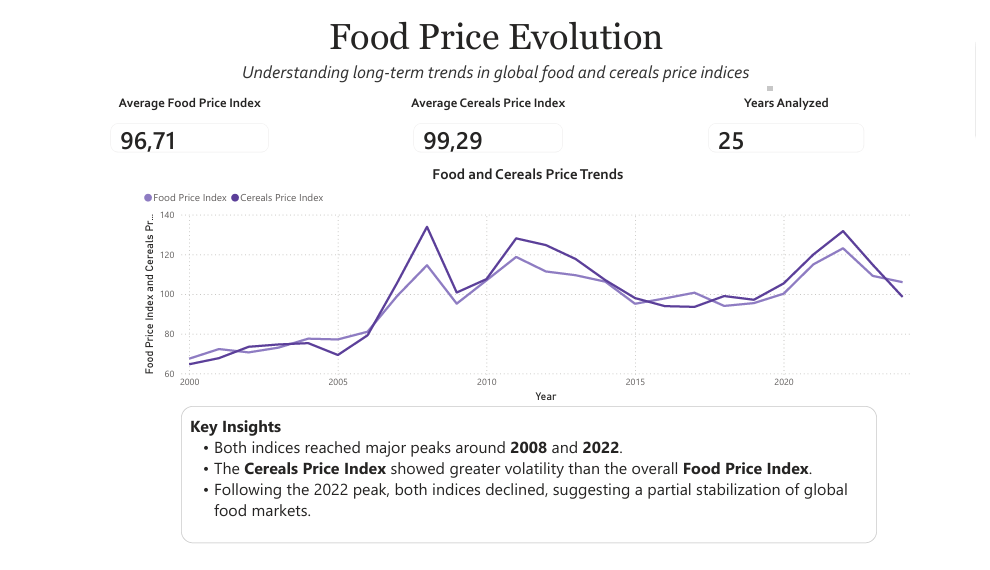

The page's visual inventory and layout, read from the dashboard file:
{"tool":"powerbi","page":{"name":"Food_Price_Evolution","canvas":[1280,720],"ordinal":5},"visuals":[{"type":"textbox","title":"Food Price Evolution","box":[265,0,750,105],"z":0},{"type":"cardVisual","title":"Average Food Price Index","fields":{"Data":["KPI.Average Food Price Index"]},"box":[109,104.5,244.8,94],"z":2000},{"type":"cardVisual","title":"Average Cereals Price Index","fields":{"Data":["KPI.Average Cereals Price Index"]},"box":[513.4,104.5,232.8,94],"z":3000},{"type":"cardVisual","title":"Years Analyzed","fields":{"Data":["KPI.Years Analyzed"]},"box":[906,104.5,241.8,94],"z":4000},{"type":"lineChart","title":"Food and Cereals Price Trends","fields":{"Y":["KPI.Average Food Price Index","KPI.Average Cereals Price Index"],"Category":["DimDate.Year"]},"box":[165,198.3,1035,321.7],"z":5000},{"type":"textbox","box":[220,520,928.3,183.3],"z":6000}]}

Visuals, with their boxes in screenshot pixels (x1, y1, x2, y2), scaled from the page's 1280x720 canvas onto the 990x570 screenshot:
"Food Price Evolution" textbox: box=[205, 0, 785, 83]
"Average Food Price Index" cardVisual: box=[84, 83, 274, 157]
"Average Cereals Price Index" cardVisual: box=[397, 83, 577, 157]
"Years Analyzed" cardVisual: box=[701, 83, 888, 157]
"Food and Cereals Price Trends" lineChart: box=[128, 157, 928, 412]
textbox: box=[170, 412, 888, 557]
